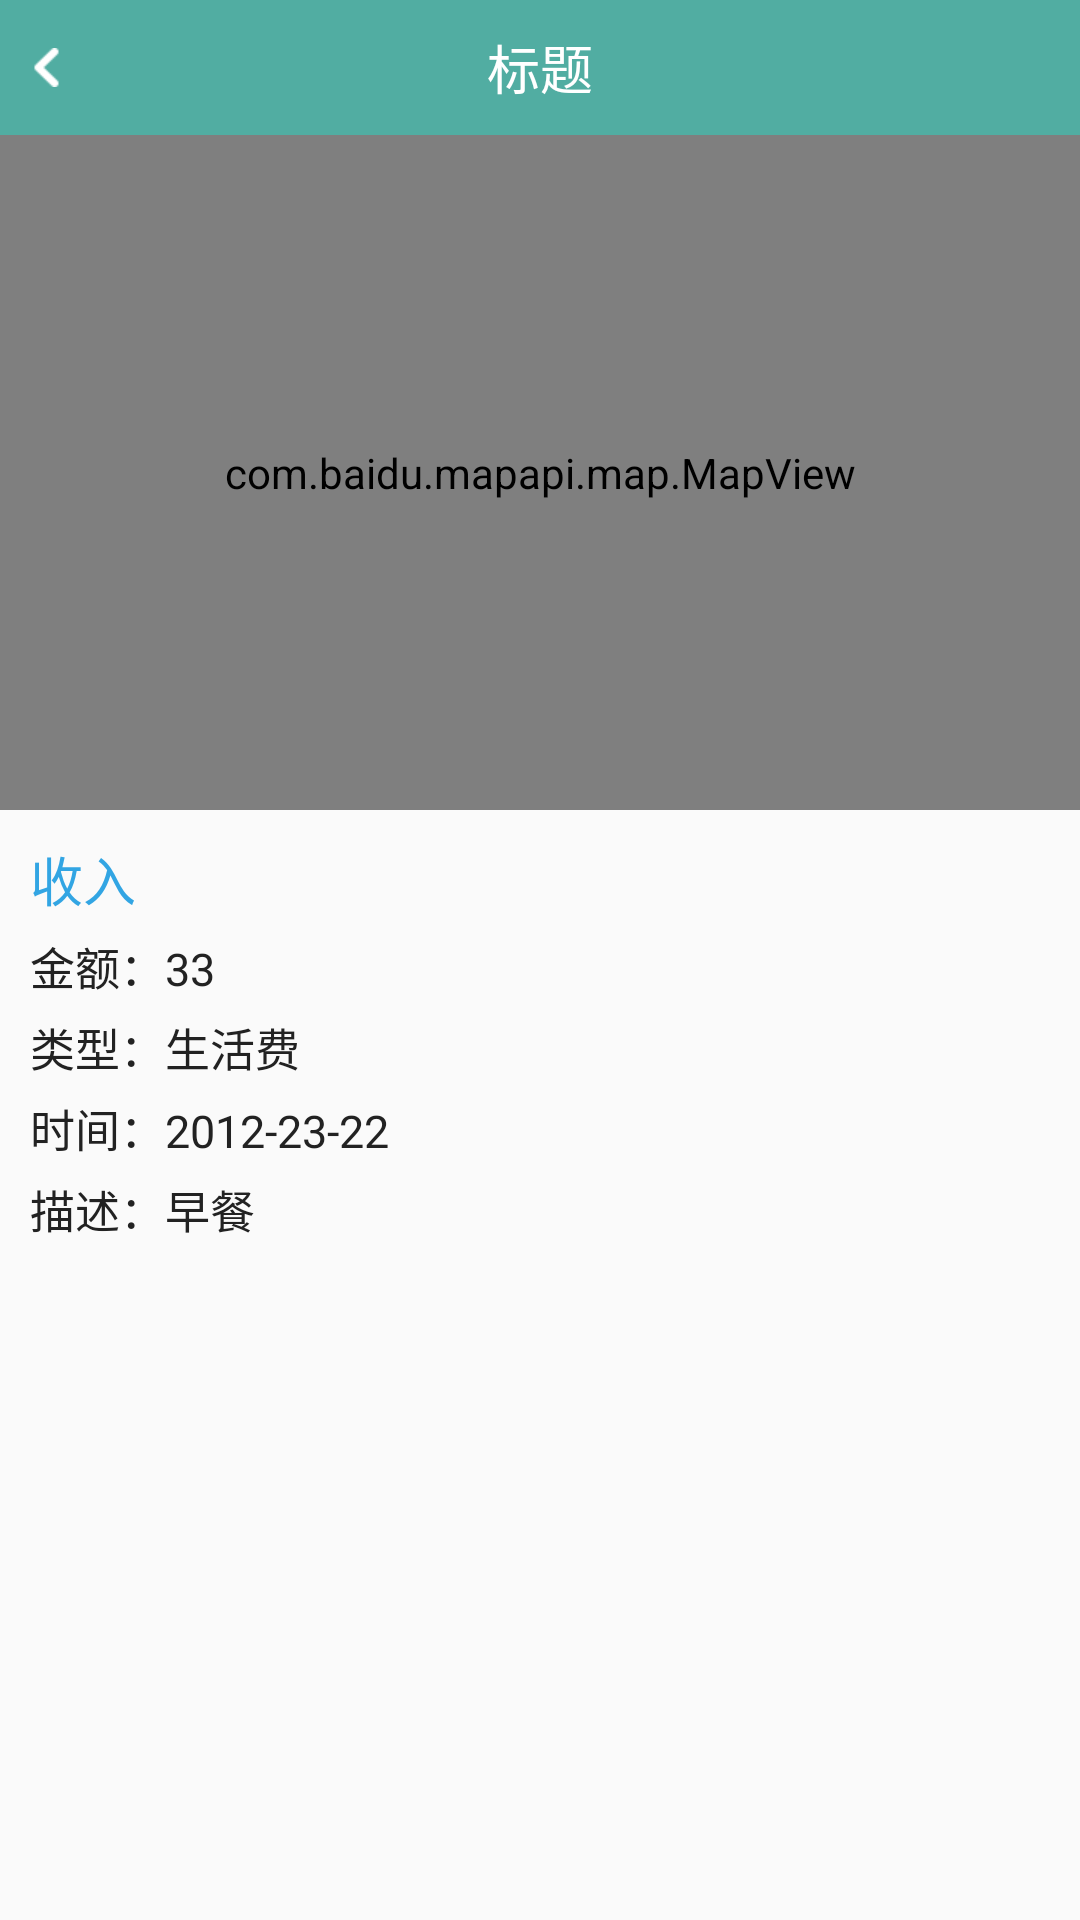

Screen size 1080px x 1920px. Icon name, then its center in pixels as [x,y]:
back index: [46,67]
